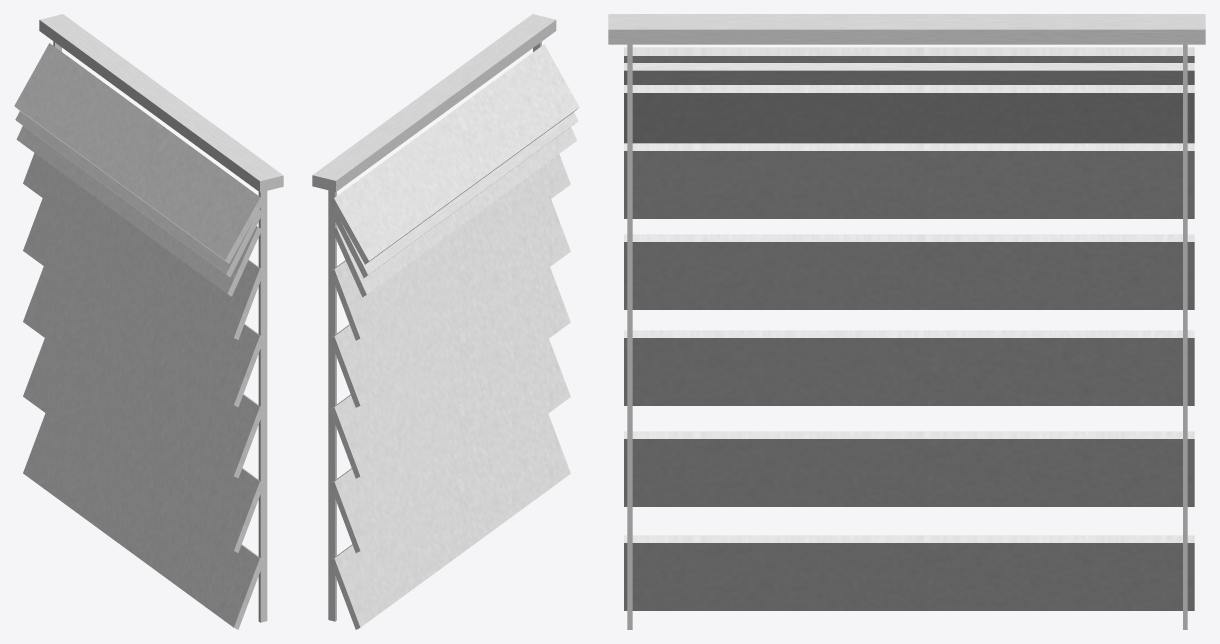
The model's file is WindowShadeFinalUV.fbx.
3 views of the same model, side by side, from view 1: azimuth 30°, elevation 25°; view 2: azimuth 150°, elevation 25°; view 3: azimuth 270°, elevation 25° (orthographic). The views are drawn at different scales.
Parts seen in each view (by area): view 1: WindowShadeOBJ; view 2: WindowShadeOBJ; view 3: WindowShadeOBJ.
Boxes of the visible parts, box(x1,y1,x2,y2) form: WindowShadeOBJ: box(14, 14, 283, 629); WindowShadeOBJ: box(312, 14, 579, 629); WindowShadeOBJ: box(608, 14, 1205, 629).
Bounding box in the file's own units: 12.91 × 105 × 93.37.
1 material, 1 textured.
